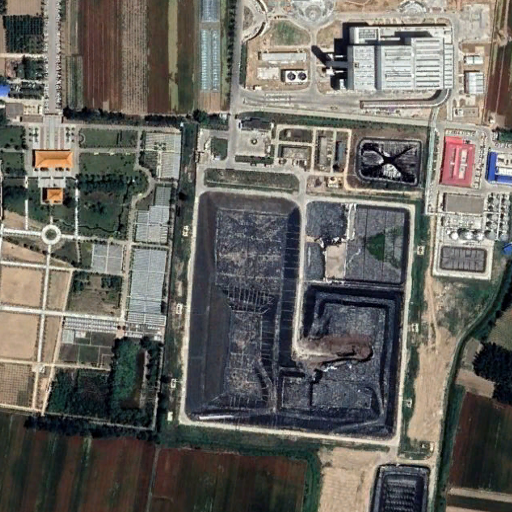lf: (183, 191, 415, 448)
